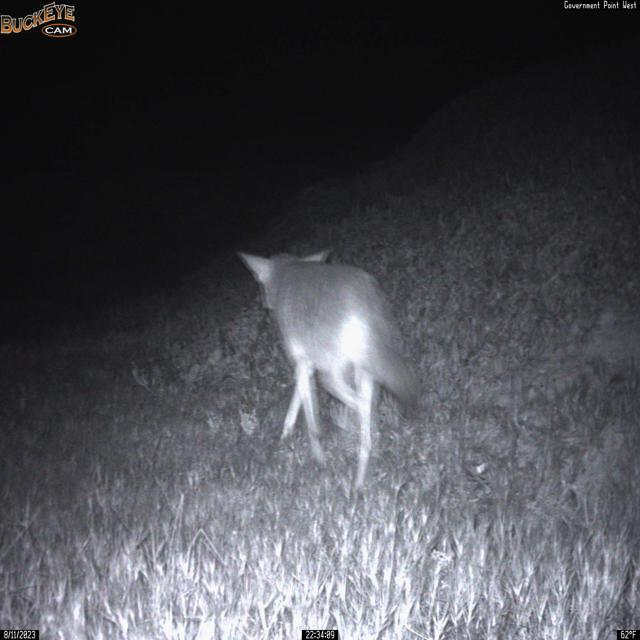coyote: (236, 246, 421, 495)
